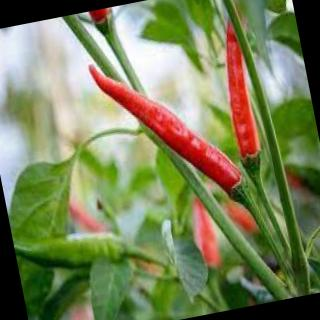Cabai Hijau: (15, 233, 126, 267)
Cabai Merah: (88, 64, 243, 197), (227, 25, 262, 160)
